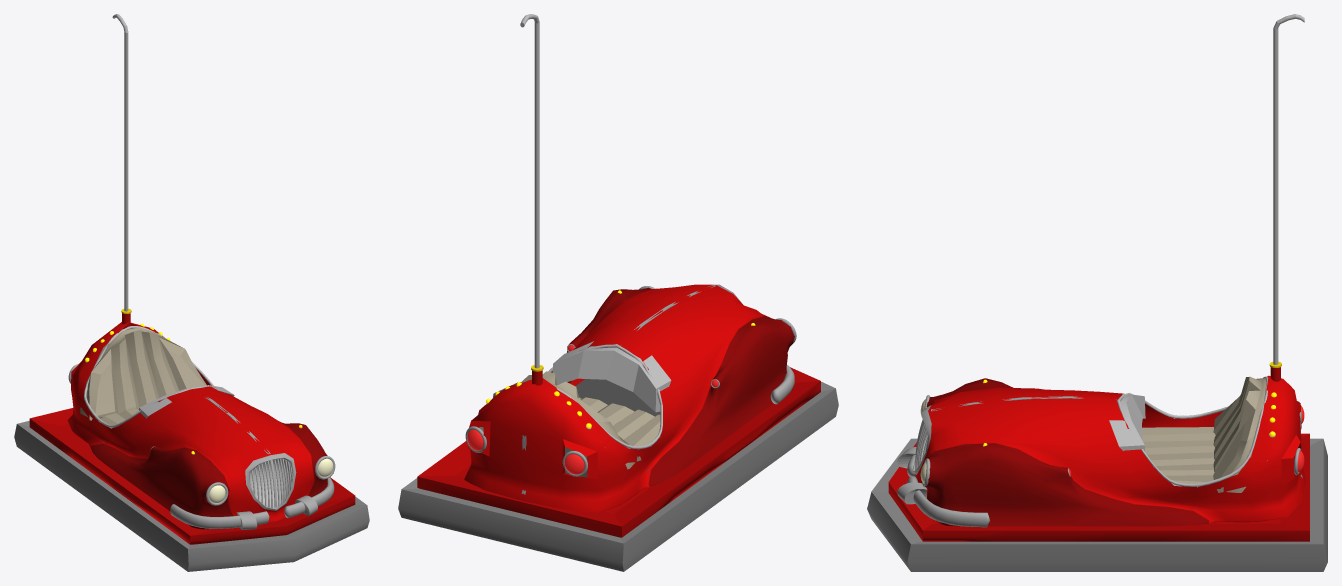
Rendered from car.fbx.
The picture shows the model from 3 angles, left to right: view 1: azimuth 30°, elevation 25°; view 2: azimuth 150°, elevation 25°; view 3: azimuth 270°, elevation 25°; orthographic projection. The views are drawn at different scales.
Visible parts, largest first — view 1: pasted__pasted__RED_CAR.003; view 2: pasted__pasted__RED_CAR.003; view 3: pasted__pasted__RED_CAR.003.
Part boxes in pixels (x1=…): pasted__pasted__RED_CAR.003: x1=14, y1=14, x2=369, y2=571; pasted__pasted__RED_CAR.003: x1=398, y1=14, x2=838, y2=571; pasted__pasted__RED_CAR.003: x1=867, y1=14, x2=1327, y2=571.
Size of the model in its own units: 4.95 by 10.93 by 9.04.
